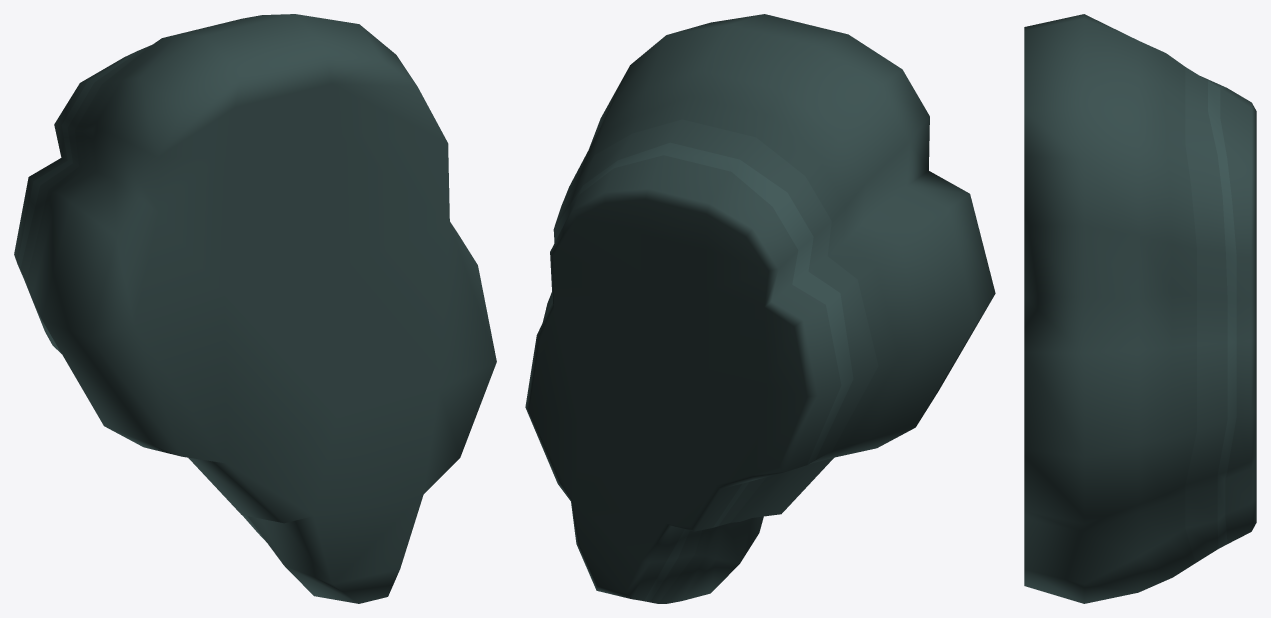
Rendered from AlienPlateuMedium.001.glb.
3 views of the same model, side by side, from view 1: azimuth 30°, elevation 25°; view 2: azimuth 150°, elevation 25°; view 3: azimuth 270°, elevation 25° (orthographic). The views are drawn at different scales.
Parts seen in each view (by area): view 1: AlienPlateuMedium.001; view 2: AlienPlateuMedium.001; view 3: AlienPlateuMedium.001.
Boxes of the visible parts, x1=… form: AlienPlateuMedium.001: x1=14, y1=14, x2=496, y2=603; AlienPlateuMedium.001: x1=525, y1=14, x2=995, y2=603; AlienPlateuMedium.001: x1=1024, y1=14, x2=1256, y2=603.
Size of the model in its own units: 4131 by 5315 by 2170.
